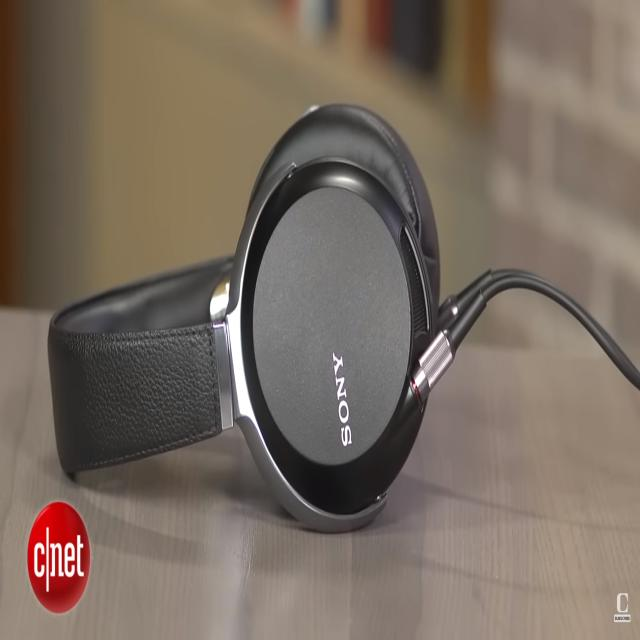Headphone: (47, 101, 442, 535)
